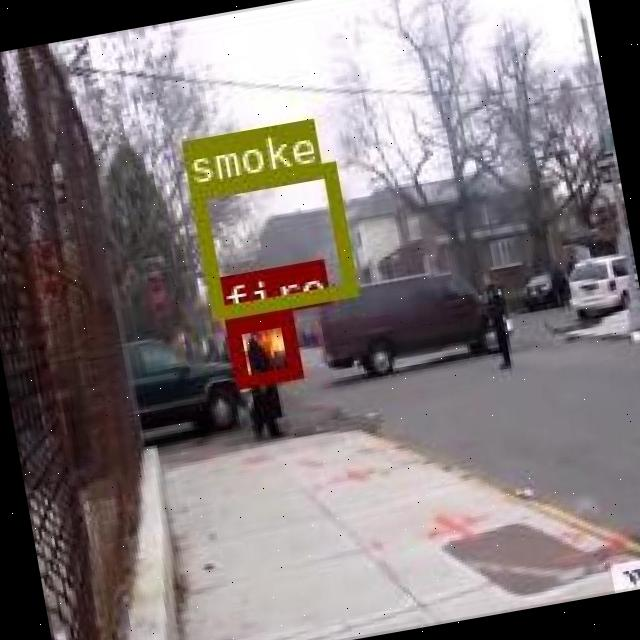fire: (224, 310, 299, 386)
smoke: (186, 160, 354, 316)
